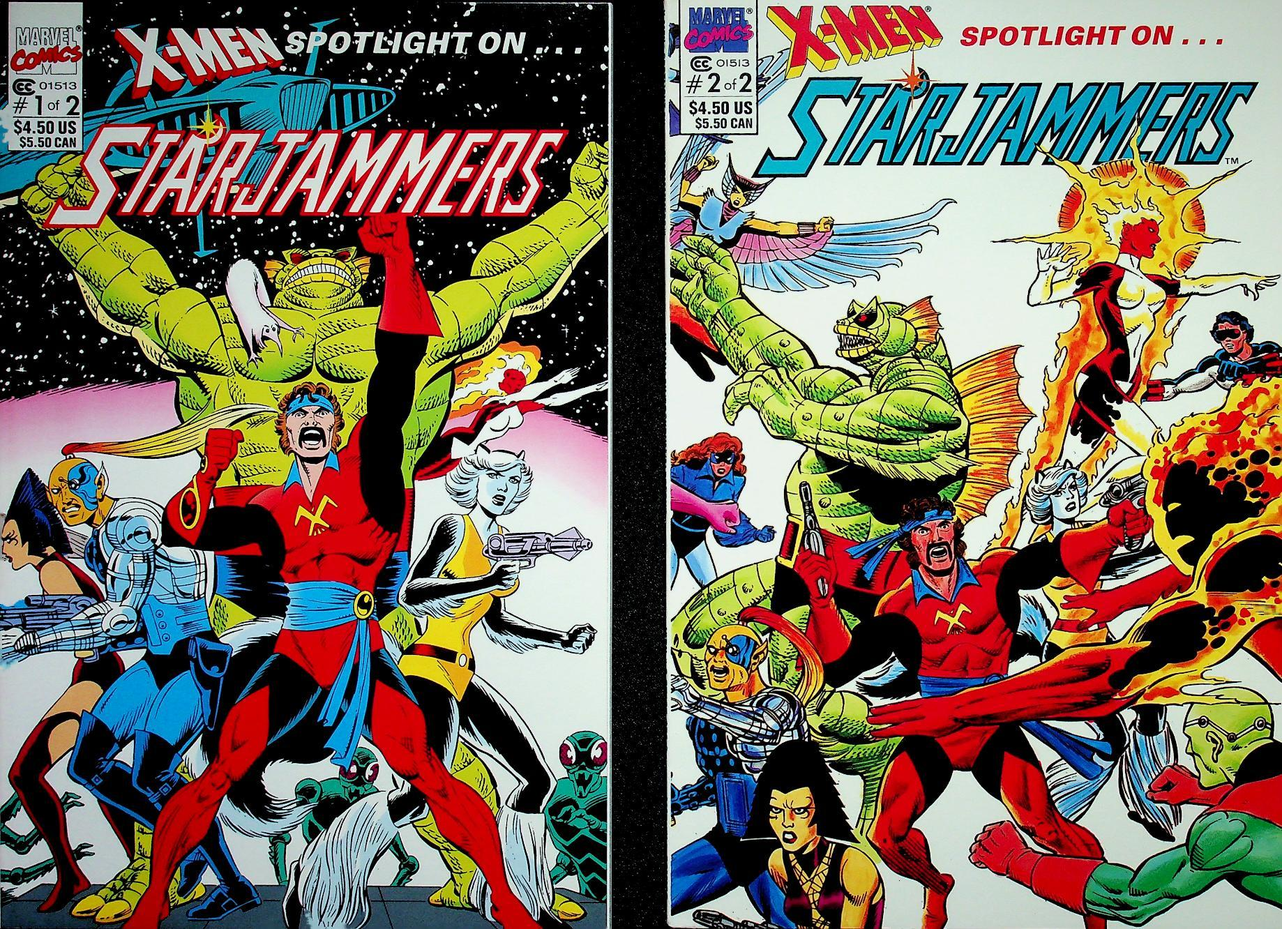comic: (665, 0, 1281, 928), (0, 2, 610, 928)
